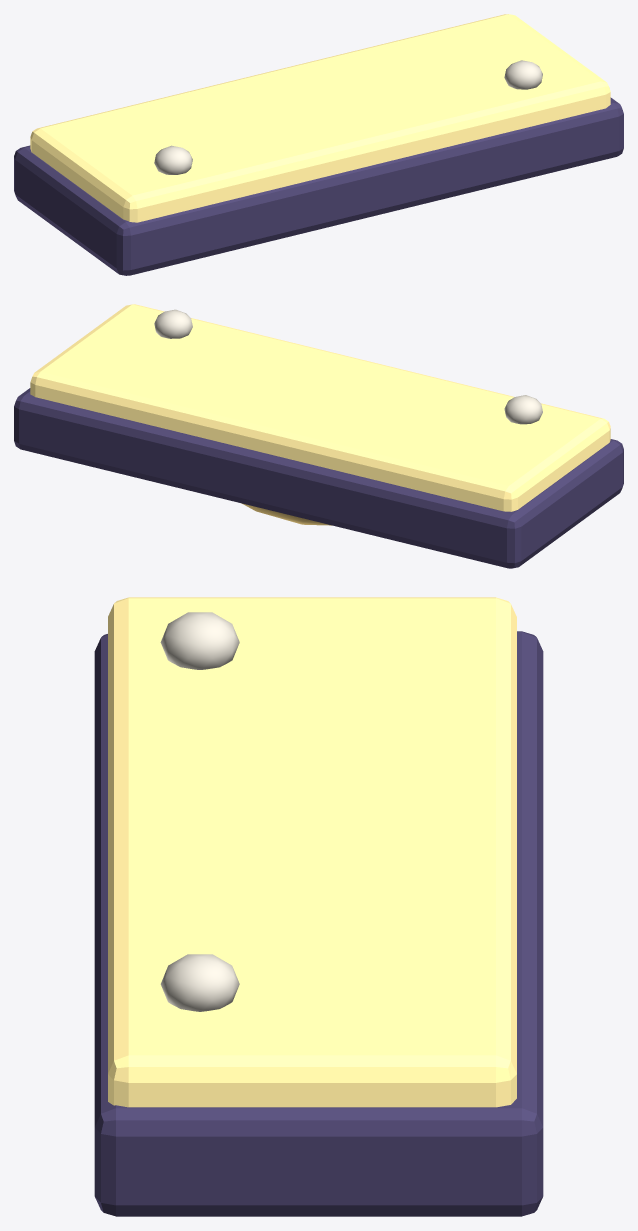
File: pearl_music_bar_2.glb
3 renders of one model, top to bottom at view 1: azimuth 30°, elevation 25°; view 2: azimuth 150°, elevation 25°; view 3: azimuth 270°, elevation 25°, orthographic. The views are drawn at different scales.
Parts seen in each view (by area): view 1: pearl_music_bar_2.001; view 2: pearl_music_bar_2.001; view 3: pearl_music_bar_2.001.
Part boxes in pixels (x1=…): pearl_music_bar_2.001: x1=14, y1=14, x2=623, y2=275; pearl_music_bar_2.001: x1=14, y1=304, x2=623, y2=568; pearl_music_bar_2.001: x1=94, y1=597, x2=543, y2=1216.
Bounding box in the file's own units: 7.09 × 1.7 × 2.72.
